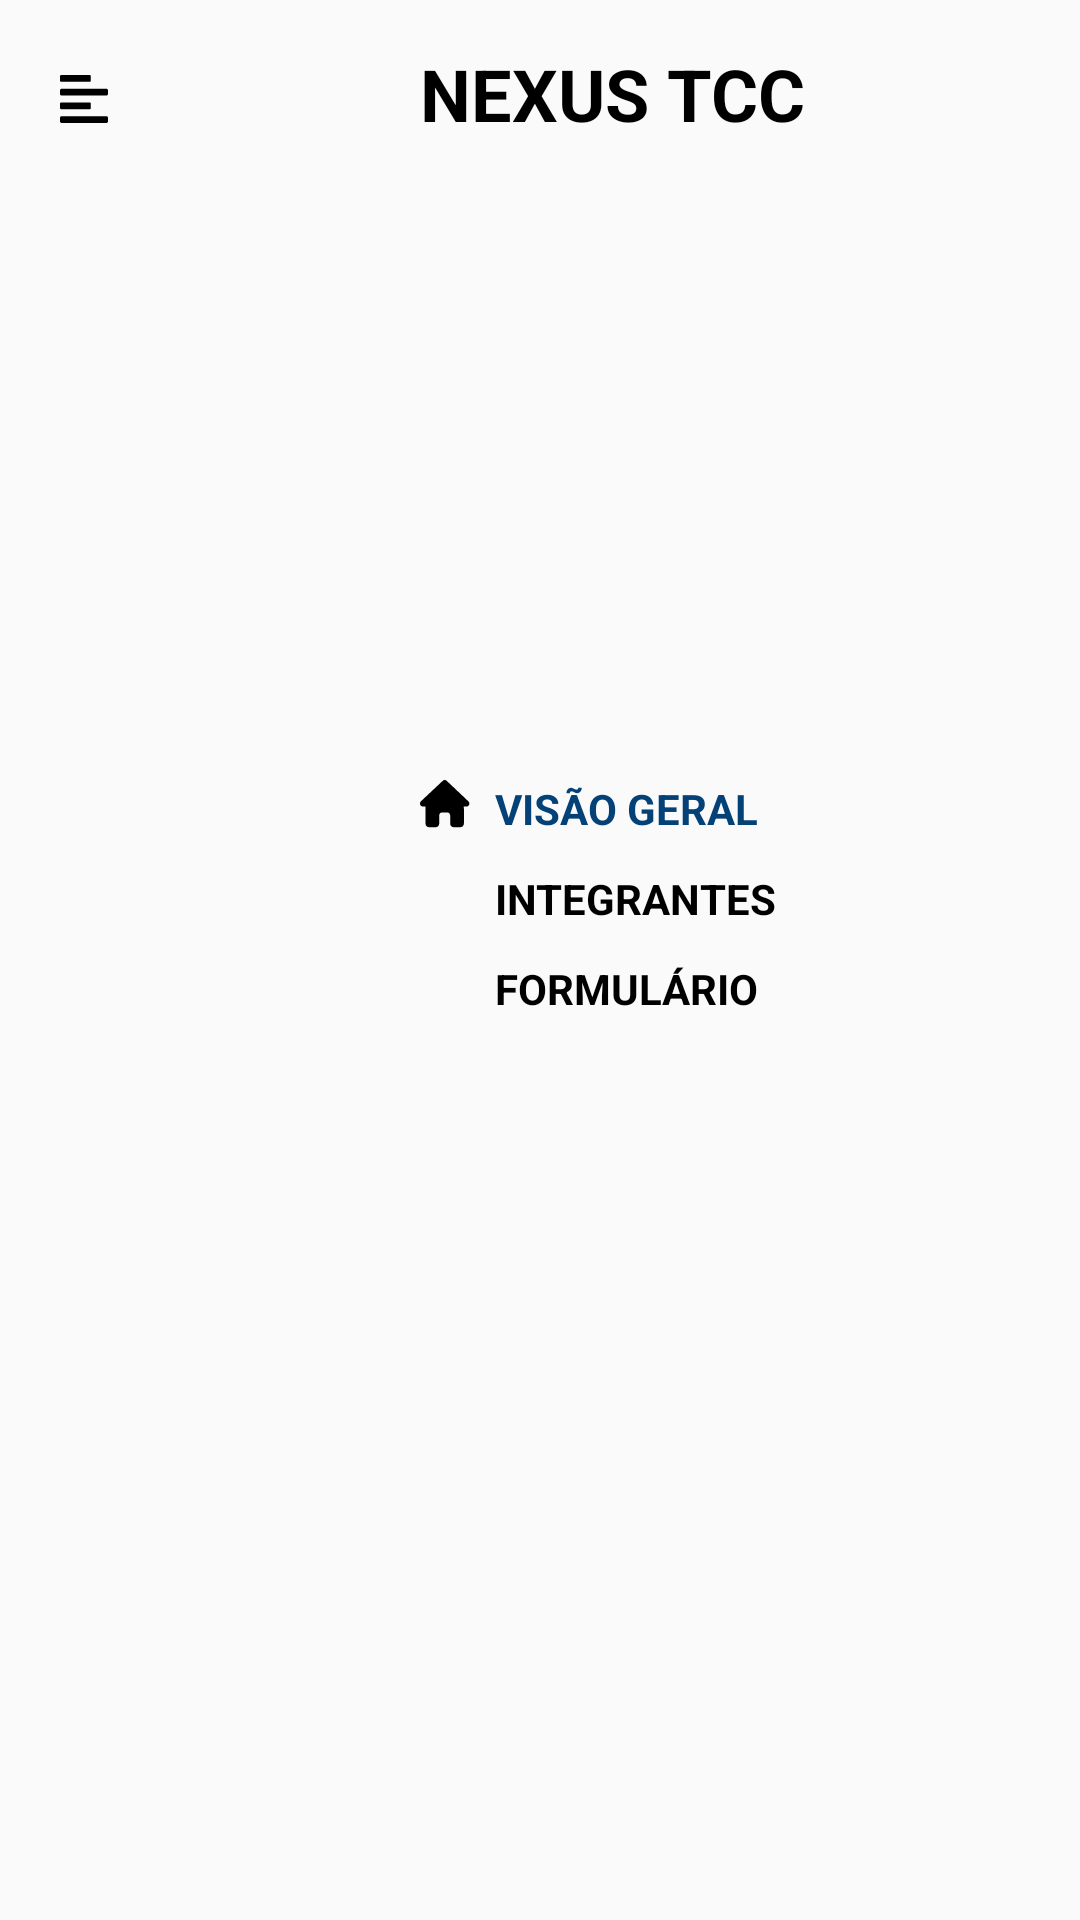

Locate icon controls on the screen. Image size 1080*1920, boxes as bbox(x1, y1, x2, y2).
hamburguer menu: bbox(60, 75, 108, 123)
visao geral: bbox(420, 780, 470, 828)
